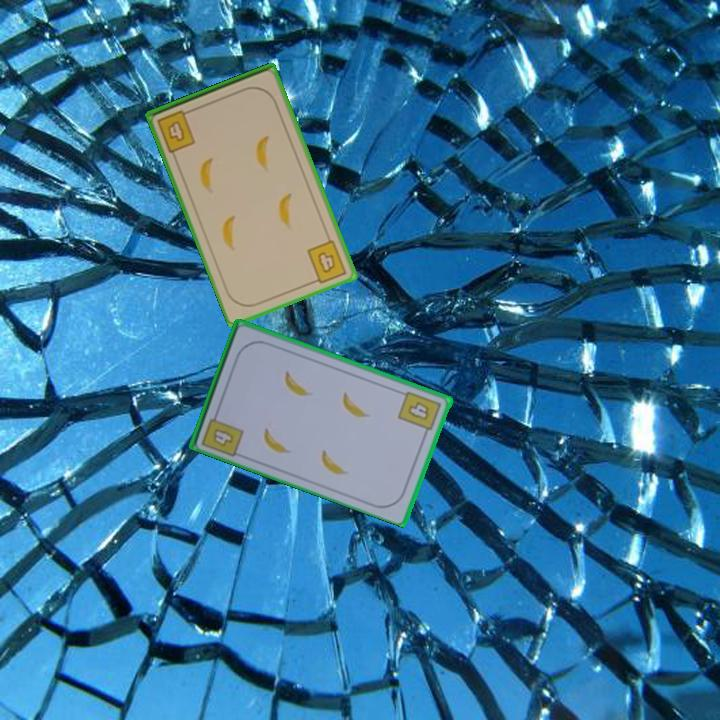4b: (395, 387, 445, 439), (304, 236, 350, 287), (154, 105, 198, 155), (210, 427, 237, 450)
